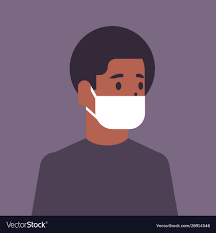flumask: (93, 88, 150, 130)
